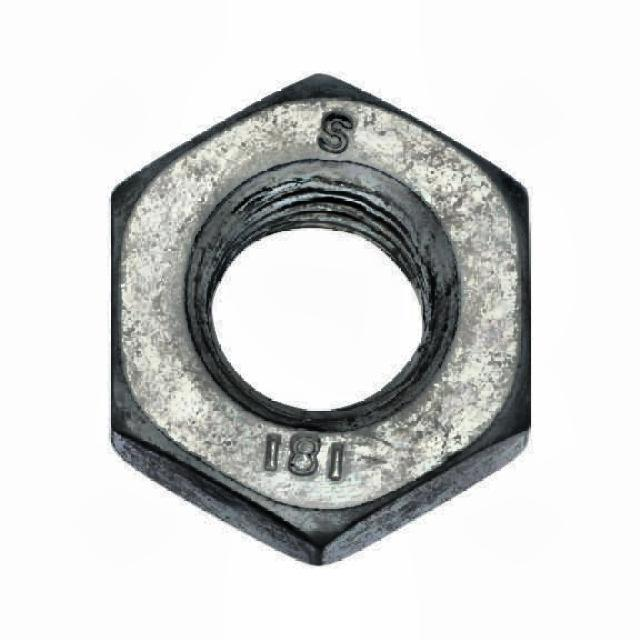Nut Detection - v1 Nut Dataset: (80, 64, 560, 572)
